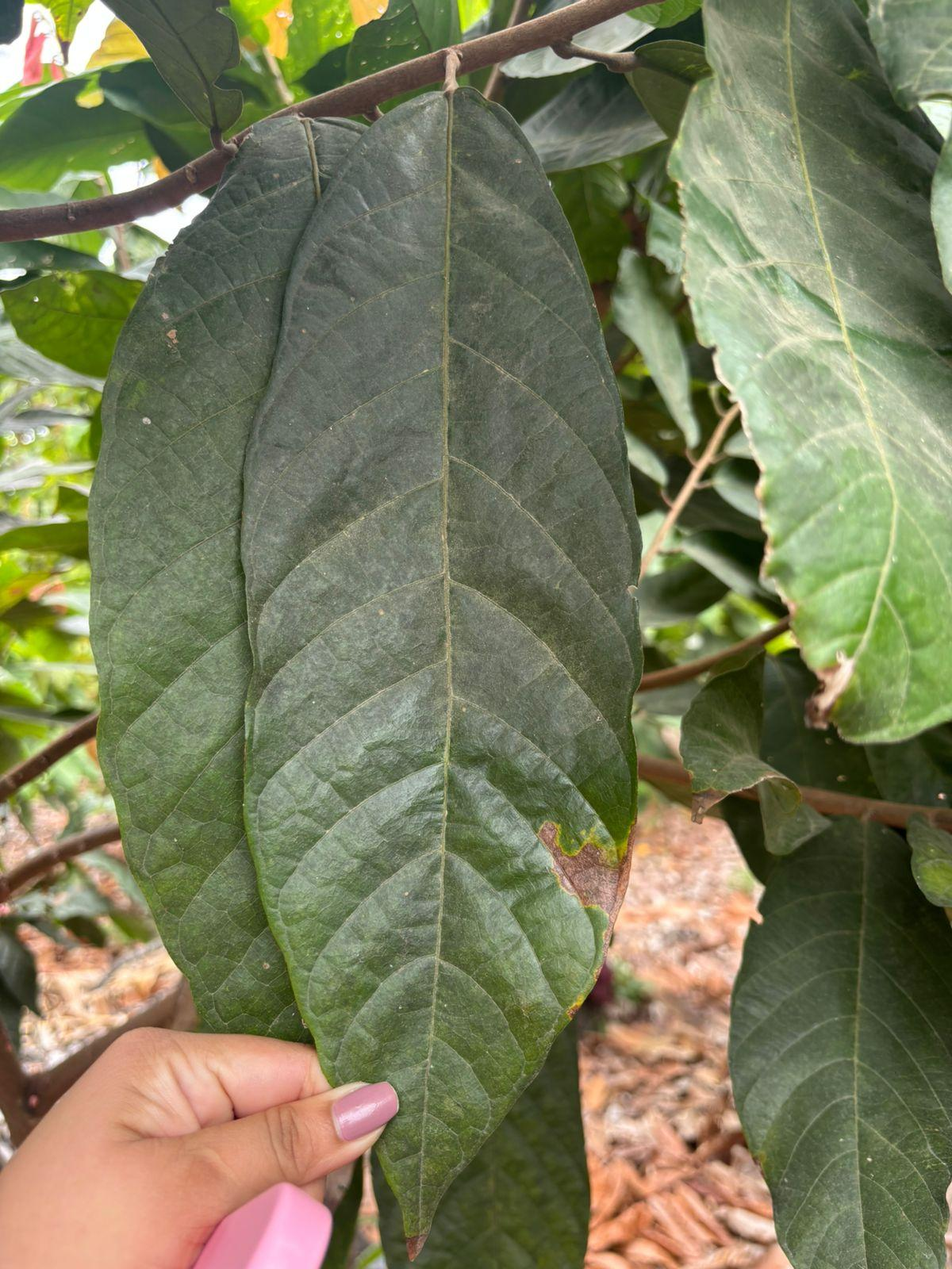deficiencia_potasio: (242, 87, 639, 1252)
